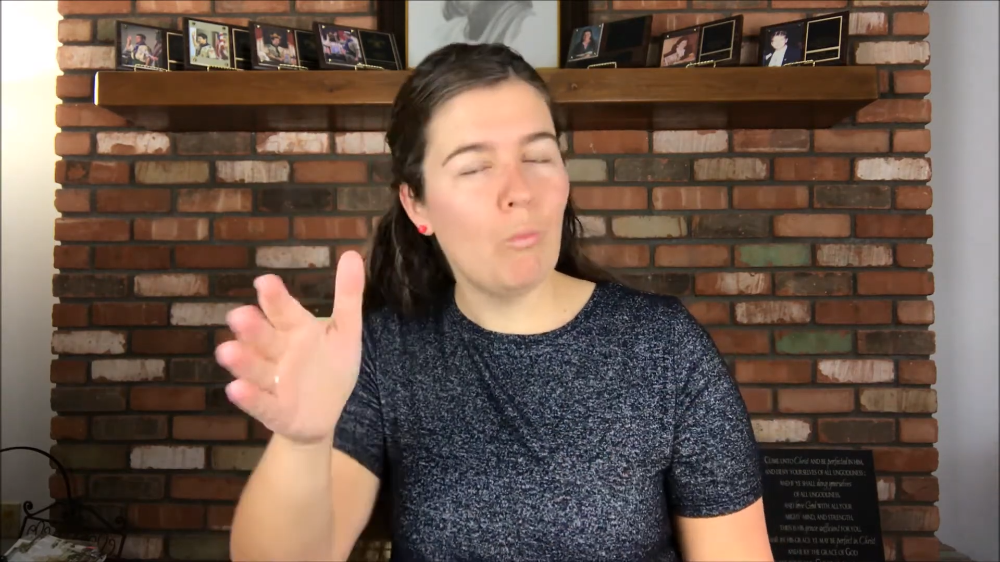hello: (212, 249, 369, 442)
